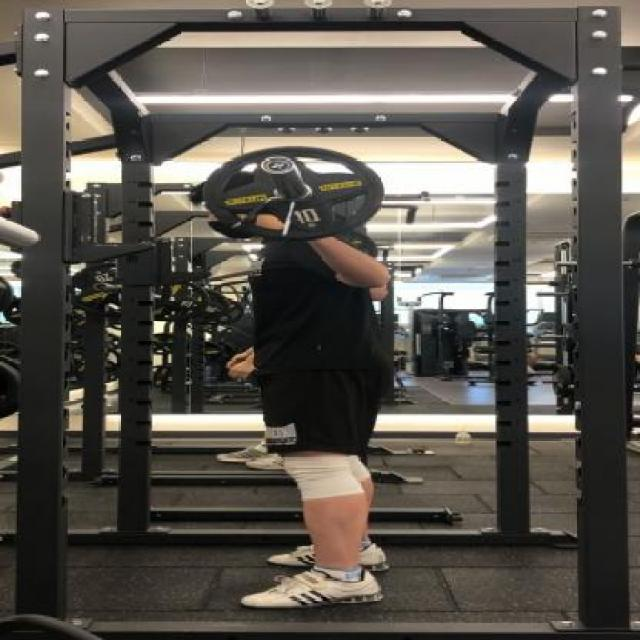Barbell: (258, 154, 300, 176)
